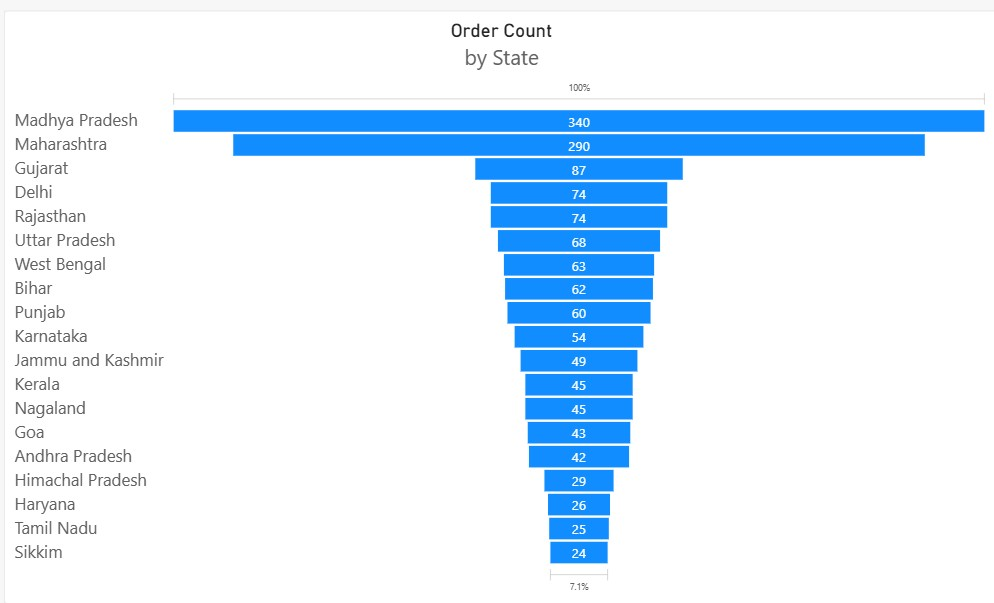

Layout of this report page (visuals, bound fields, positions):
{"tool":"powerbi","page":{"name":"Funnel Chart","canvas":[1920,1080],"ordinal":8},"visuals":[{"type":"funnel","fields":{"Category":["List of Orders (3).State"],"Y":["Order Details (3).Order Count"]},"box":[62.4,45.4,1581.7,943.9],"z":0}]}

Visuals, with their boxes on the page's 1920x1080 design canvas (x1, y1, x2, y2). These are canvas units, not pixel positions in the 994x603 screenshot, which may show the page scaled, cropped or inside an application window:
funnel - List of Orders (3).State x Order Details (3).Order Count: l=62, t=45, r=1644, b=989
